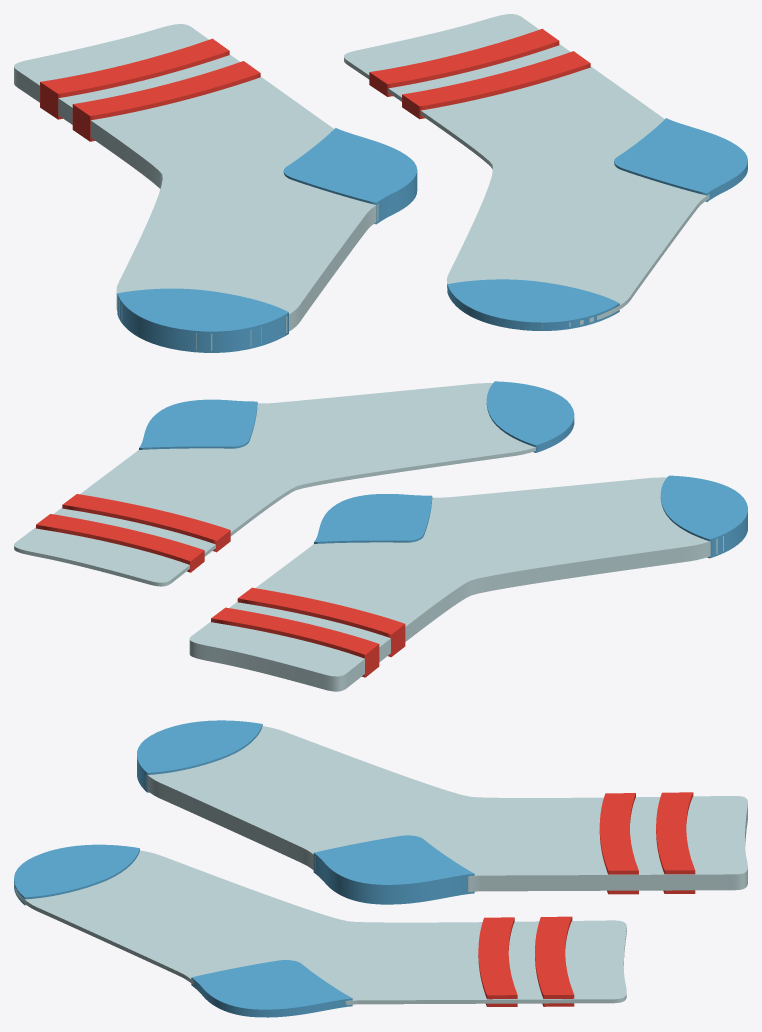
File: emoji_u1f9e6.glb
3 renders of one model, top to bottom at view 1: azimuth 30°, elevation 25°; view 2: azimuth 150°, elevation 25°; view 3: azimuth 270°, elevation 25°, orthographic. The views are drawn at different scales.
Parts seen in each view (by area): view 1: emoji_u1f9e6; view 2: emoji_u1f9e6; view 3: emoji_u1f9e6.
Boxes of the visible parts, box(x1,y1,x2,y2) form: emoji_u1f9e6: box(14, 14, 747, 352); emoji_u1f9e6: box(14, 381, 747, 691); emoji_u1f9e6: box(14, 720, 747, 1017).
Bounding box in the file's own units: 0.0308 × 0.0012 × 0.0338.
